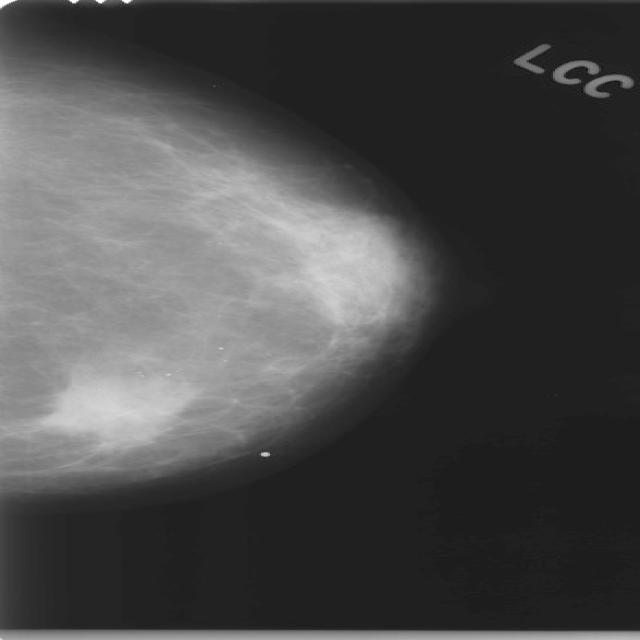tumour: (41, 361, 194, 447)
